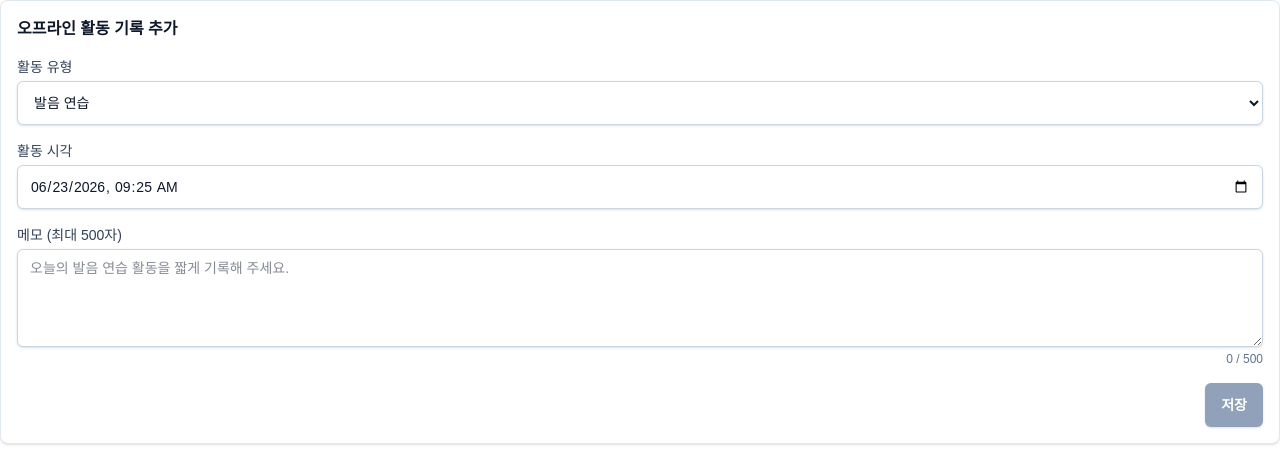
OfflineEntryForm — submit 실패 › [4b] submit 자체 throw → 에러 메시지 (fallback copy)
Type "정상 메모" into the text box with test id "offline-entry-note" at (640, 298), box [17,249,1263,347]
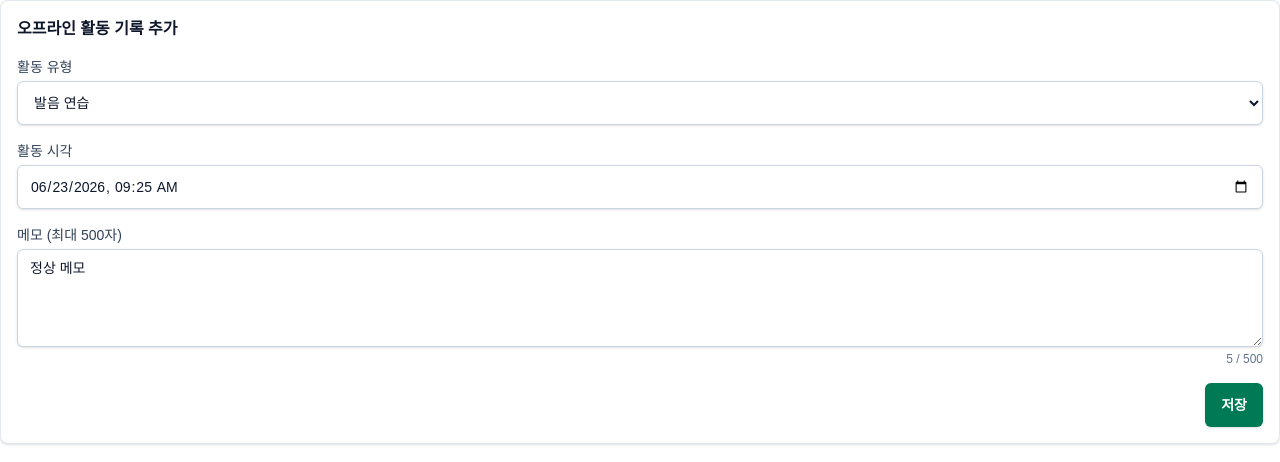
Click the button with test id "offline-entry-submit" at (1234, 405), box [1205,383,1263,427]
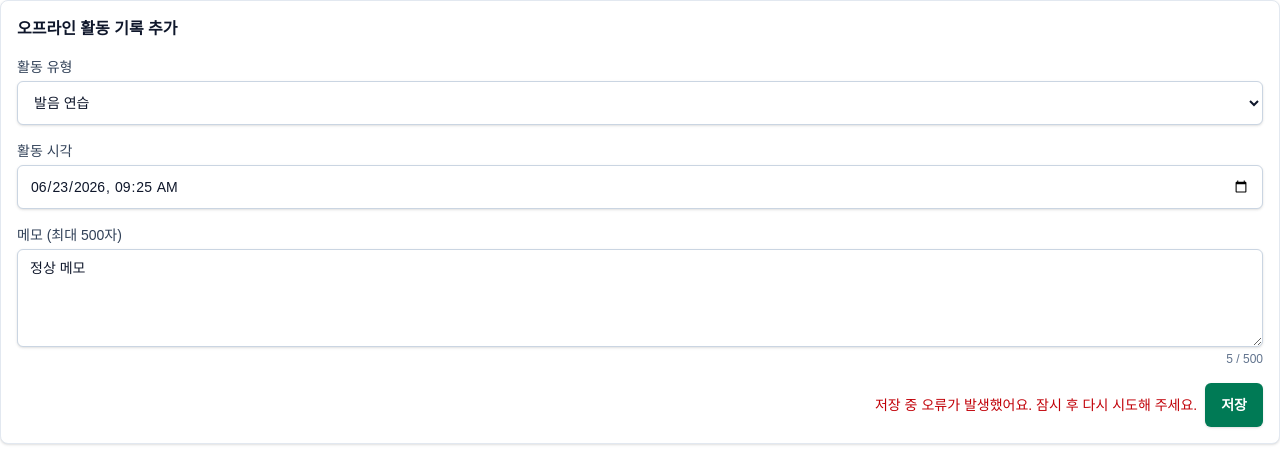
Check: the message "저장 중 오류가 발생했어요. 잠시 후 다시 시도해 주세요." is shown, box [875,395,1197,415]
